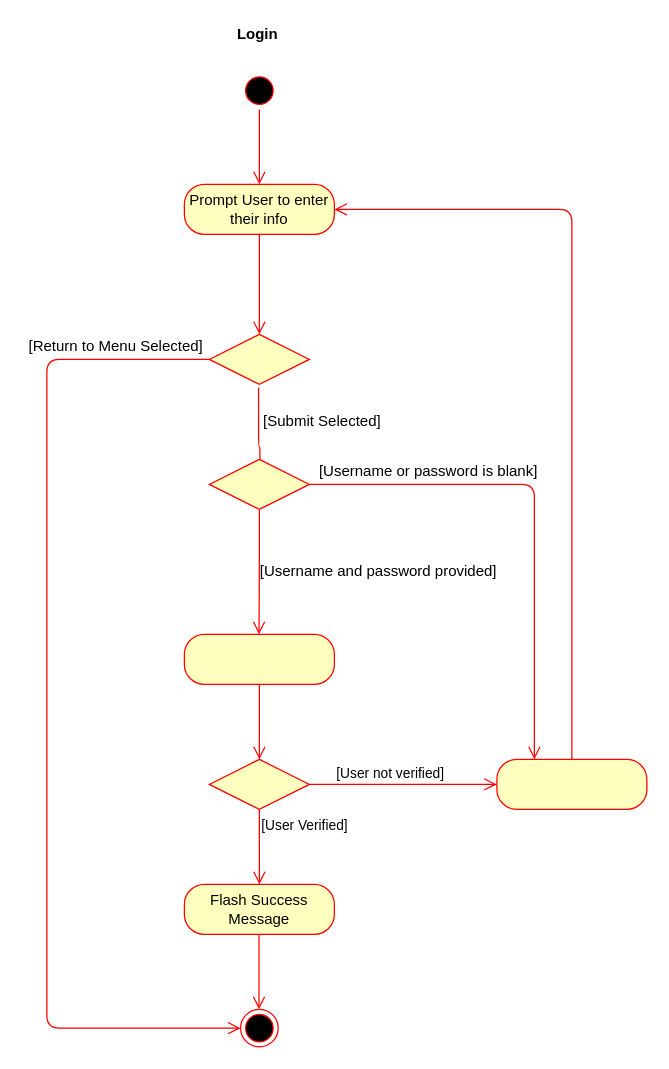
Some shapes in this 669 by 1069 pixel diagram are drawn without their labels. The shapes that lost their labels are listed below. From the top down, each one's centre as x and y in pixels, then its label:
point (258, 658): Verify User
point (571, 783): Flash Error Message
